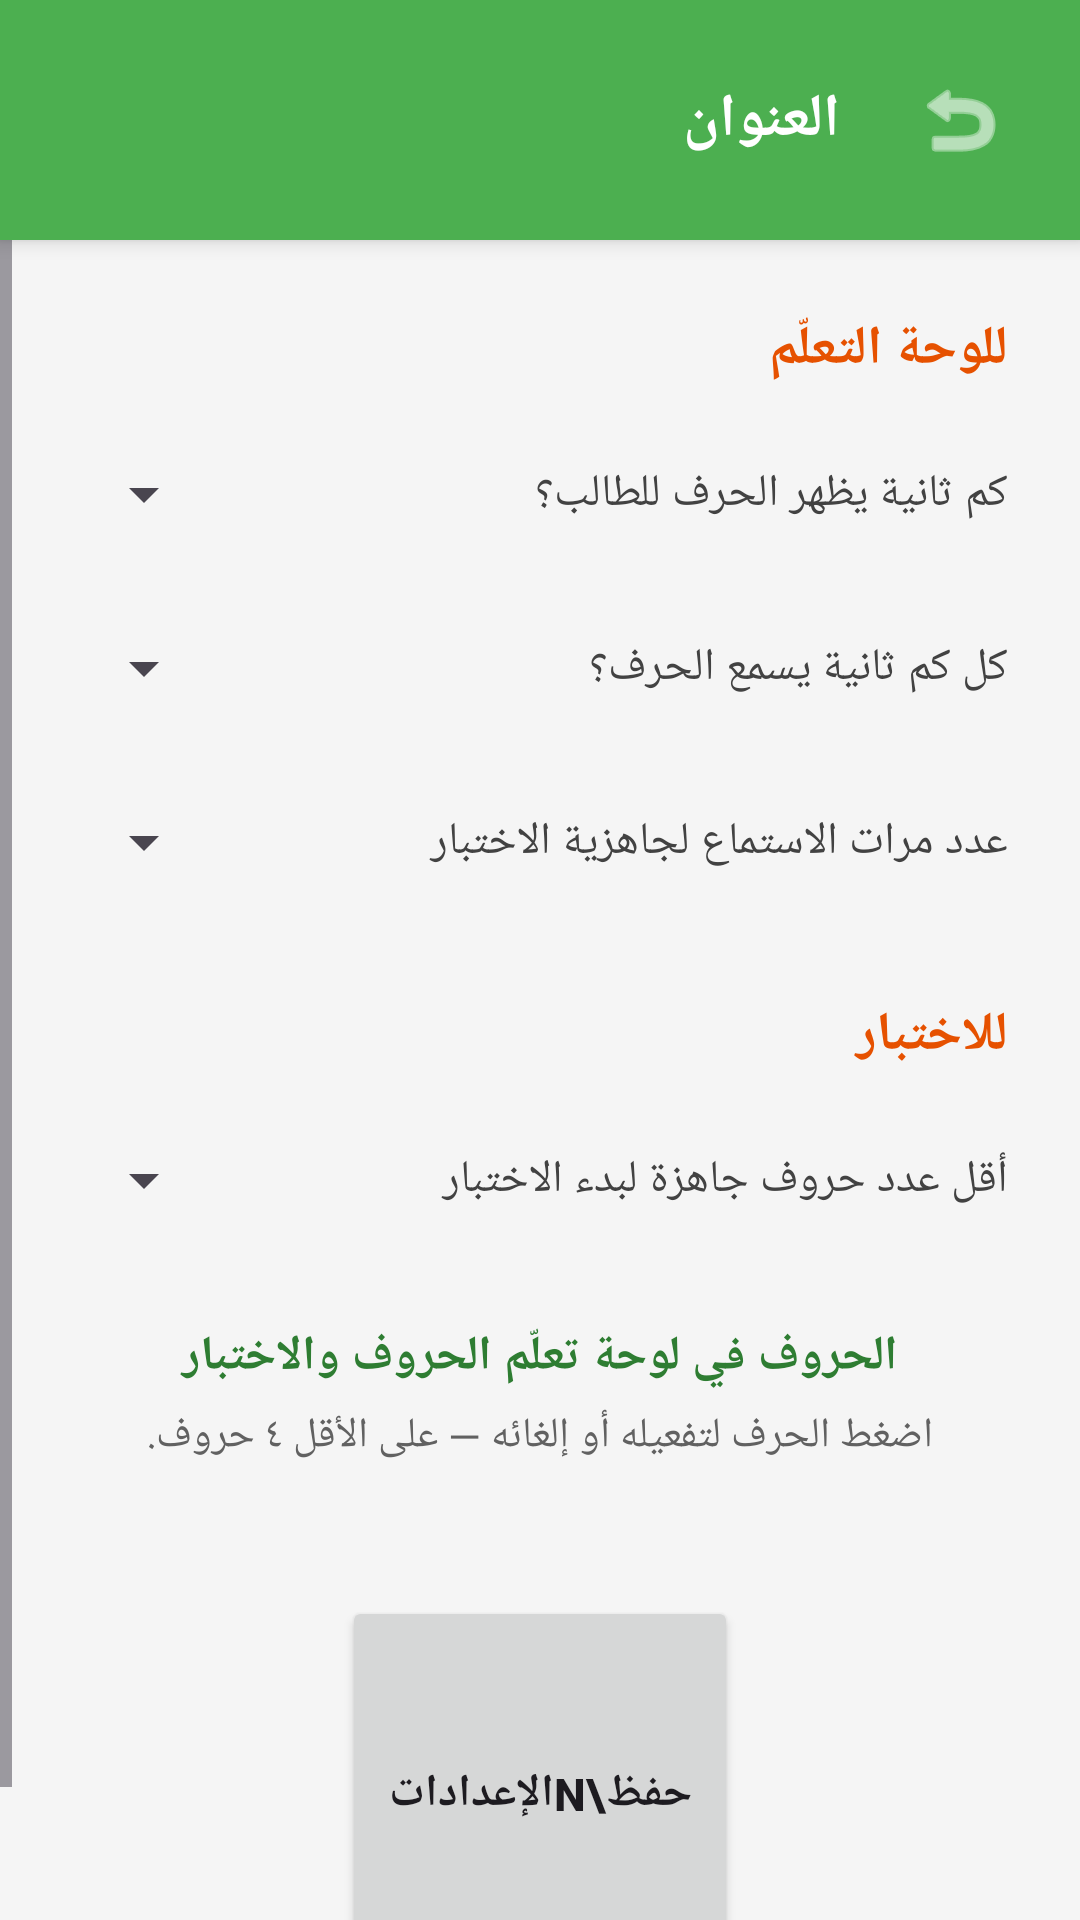

Point at icon controls on the screen. Image size 1080×1920, points as (x,y).
رجوع: (961,120)
